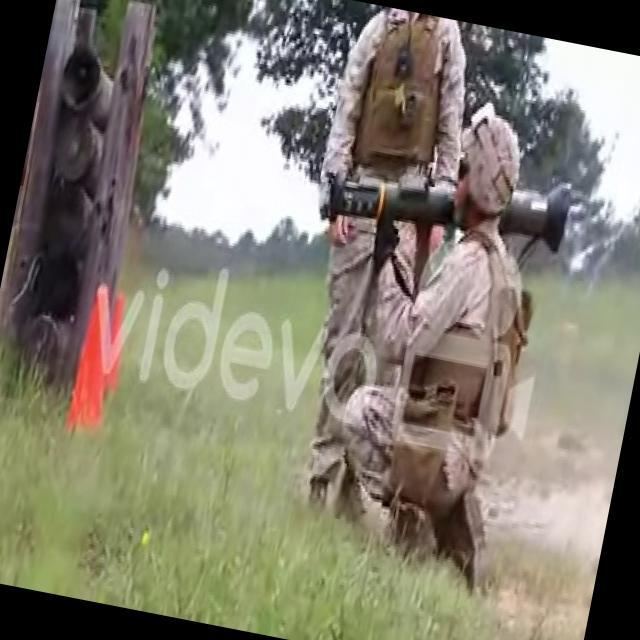rocket: (315, 136, 579, 265)
